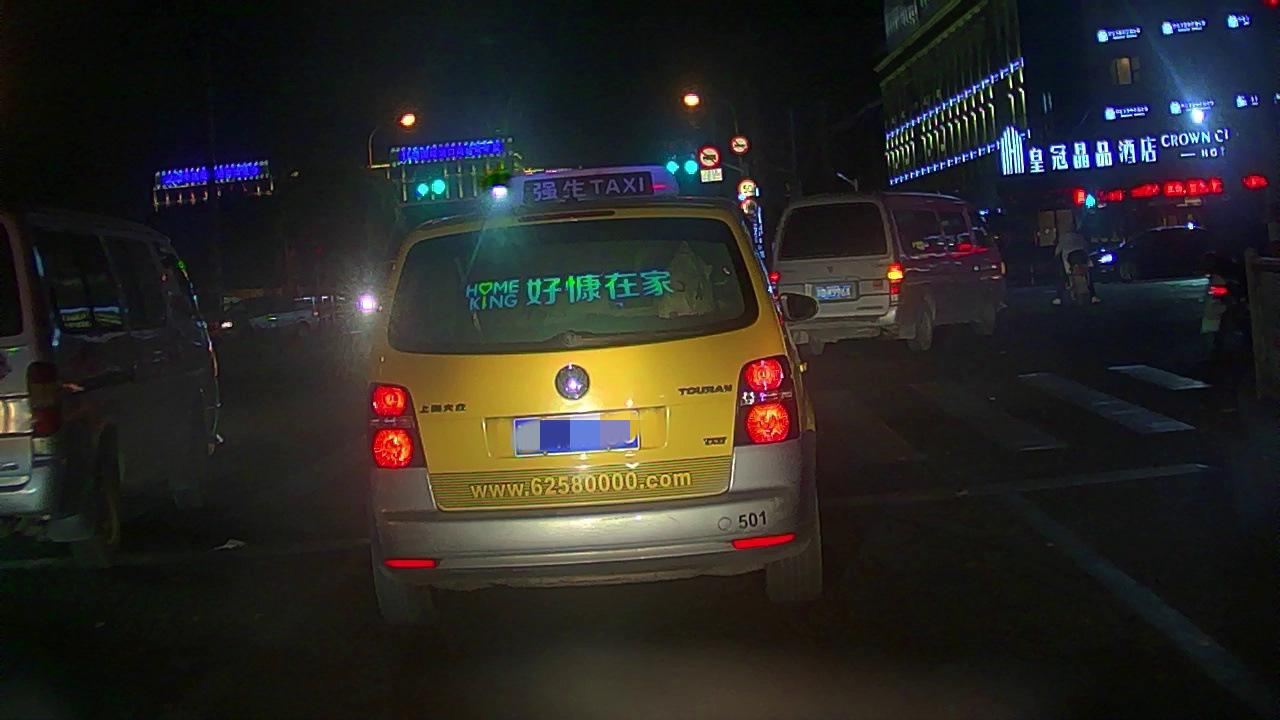traffic_light: (428, 176, 448, 199), (680, 155, 700, 177), (664, 158, 682, 175), (414, 180, 430, 199)
